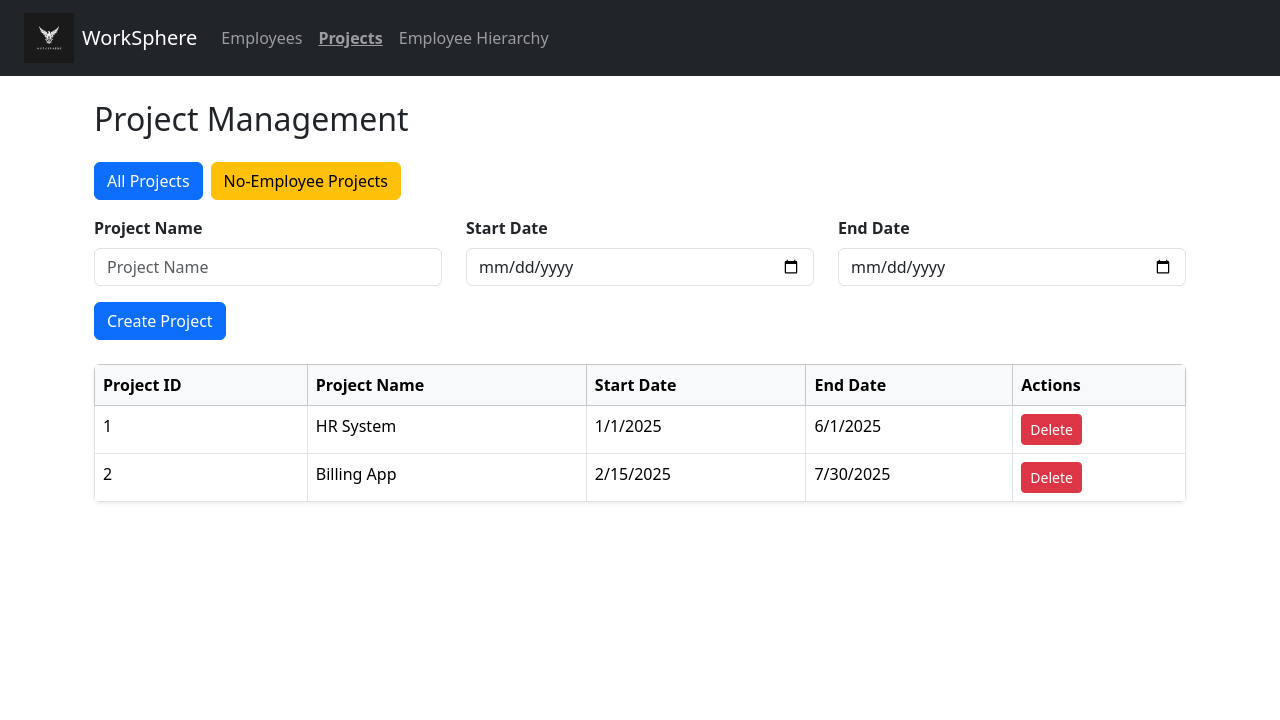
Test: Project Management Page › deletes a project and updates the list
The image size is (1280, 720).
What coordinates should you click on to do the following:
click the button "Delete" in the row of "HR System"
I would click on:
 (1052, 430)
Its box is [1021,414,1082,445].
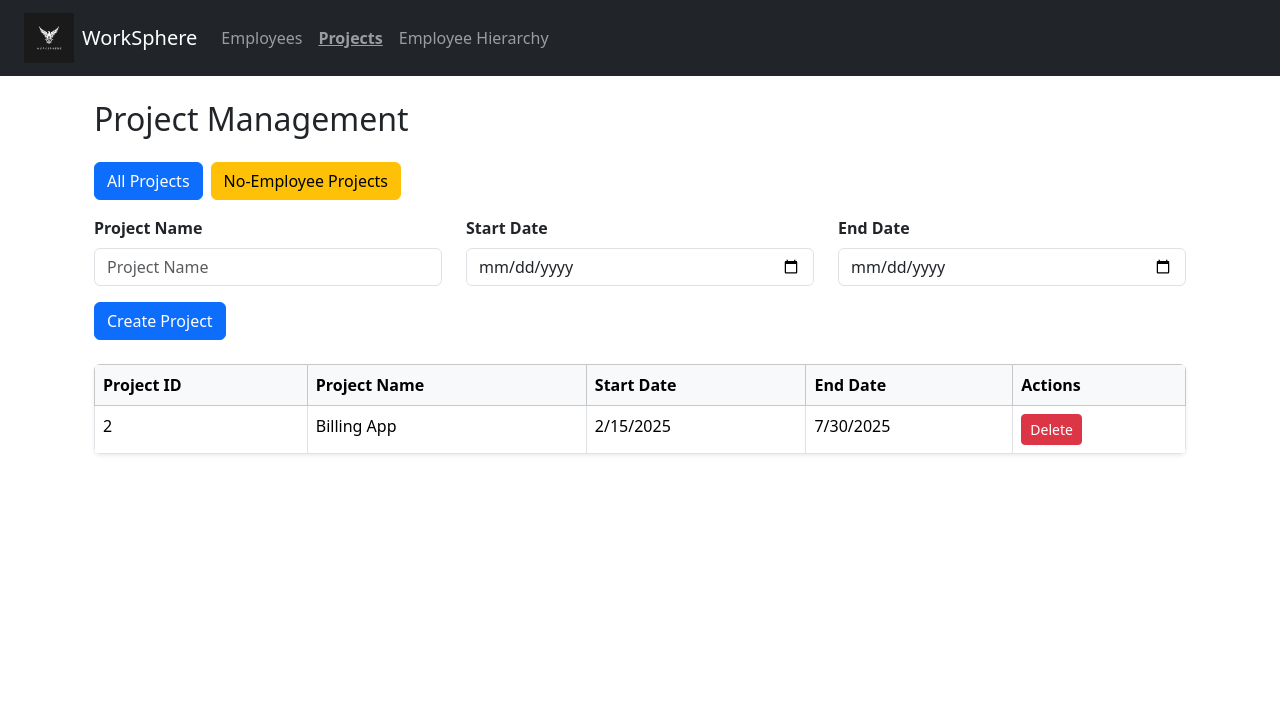
Expected: the text "HR System" is gone
